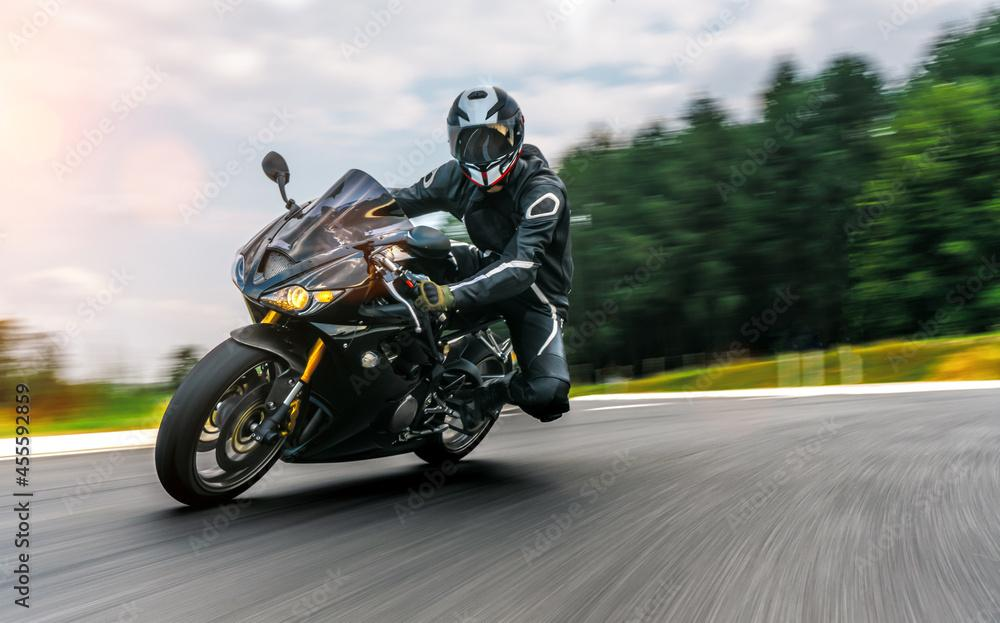helmet: (446, 85, 526, 191)
